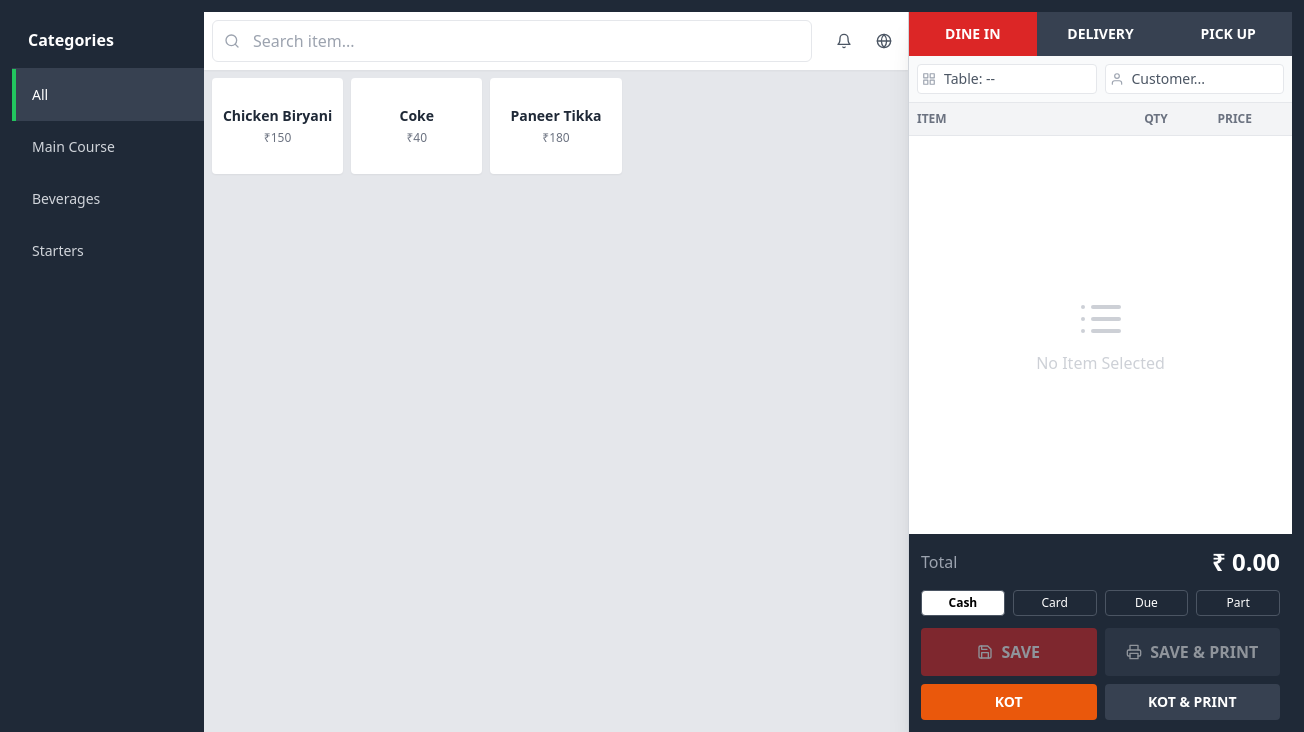
Test: POS Component › calculates total correctly
Expected: the text "Chicken Biryani" is shown, [223,106,332,126]
Click the button "Chicken Biryani ₹150" at (278,126), box [212,78,343,174]
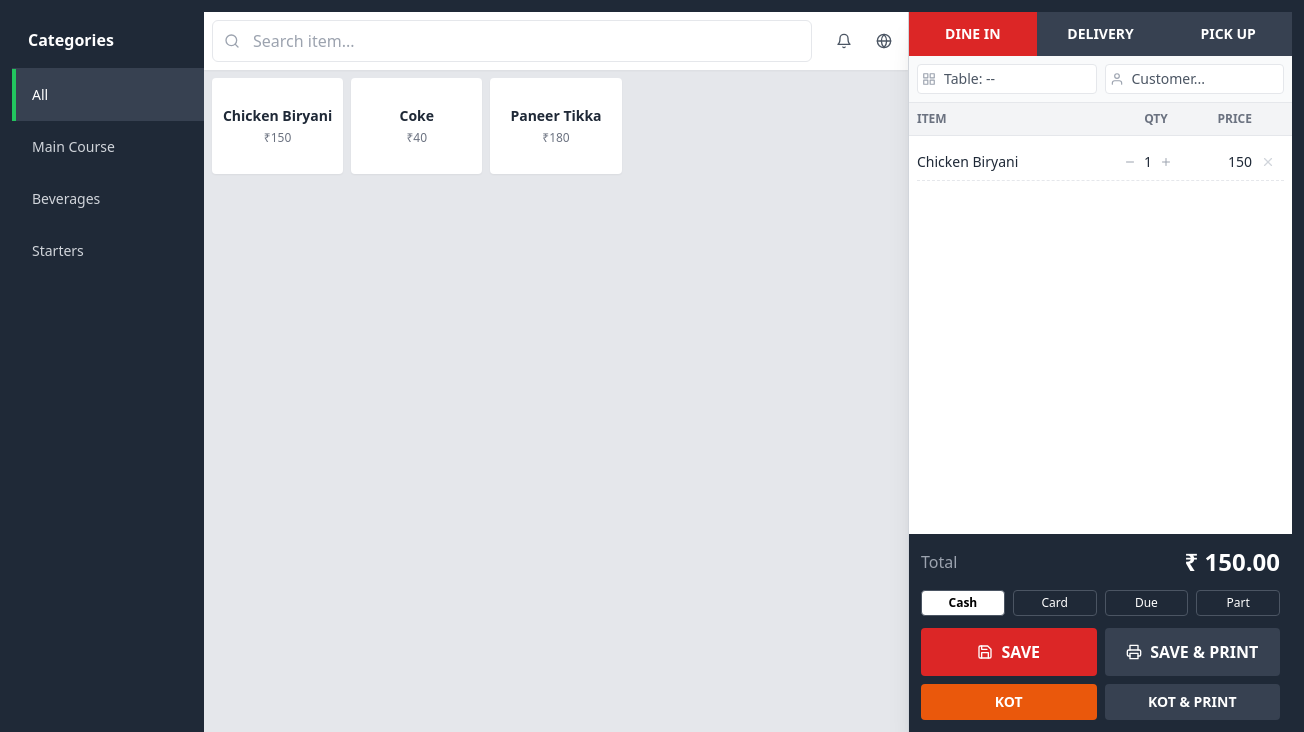
Click the button "Coke ₹40" at (417,126), box [351,78,482,174]
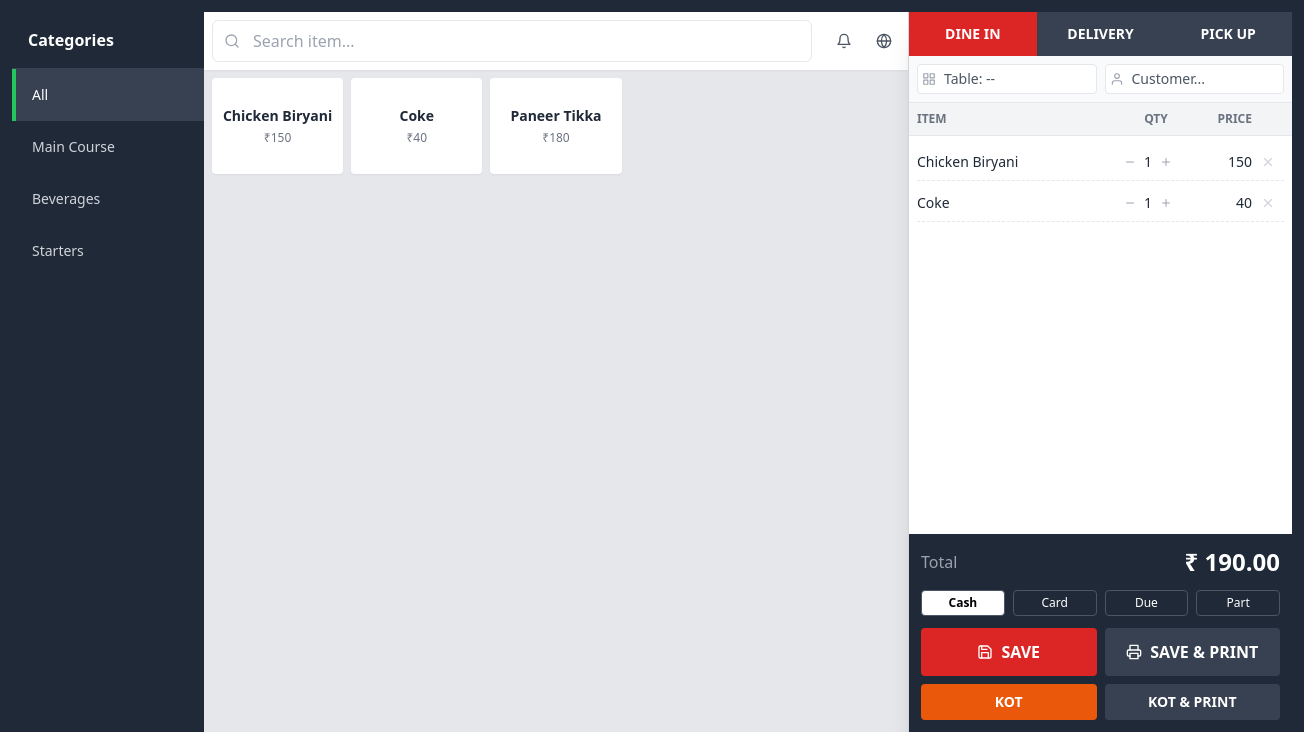
Click the button "Coke ₹40" at (417,126), box [351,78,482,174]
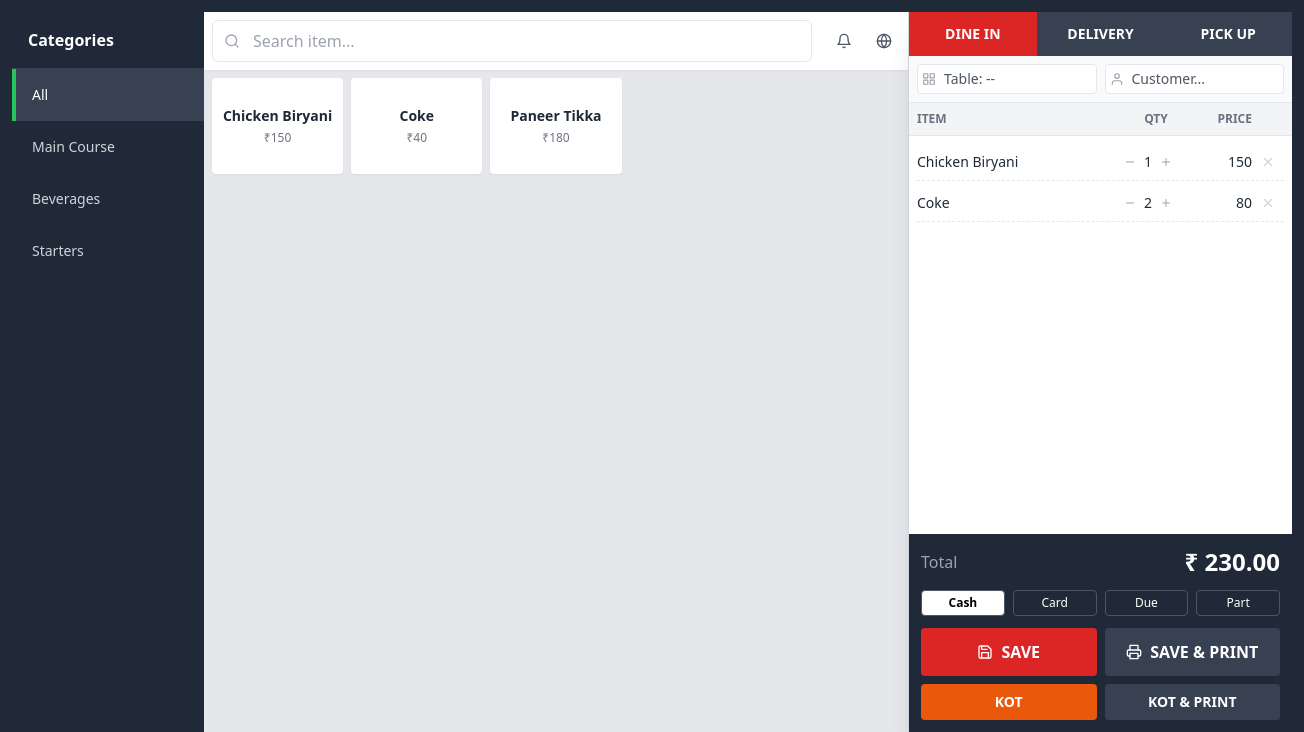
Expected: the text "₹ 230.00" is shown, [1184,546,1280,578]
